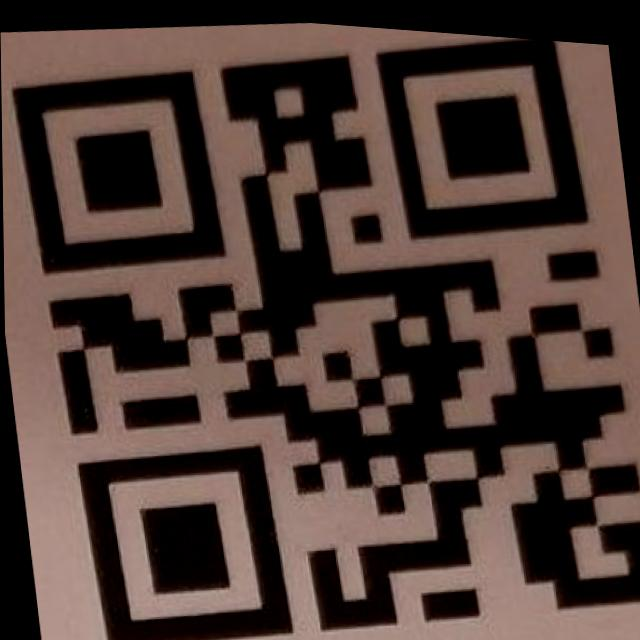QR_CODE: (3, 0, 640, 640)
